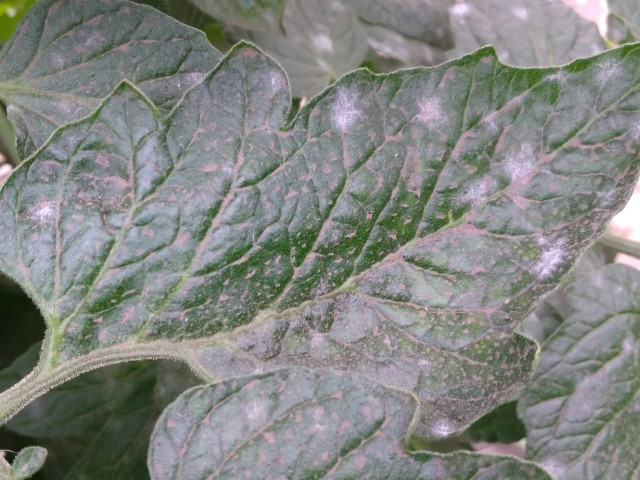oidio: (332, 88, 371, 140), (500, 146, 550, 177), (416, 90, 452, 132), (532, 239, 566, 282), (28, 202, 63, 226), (268, 69, 292, 100), (469, 182, 494, 211), (428, 414, 453, 437)
